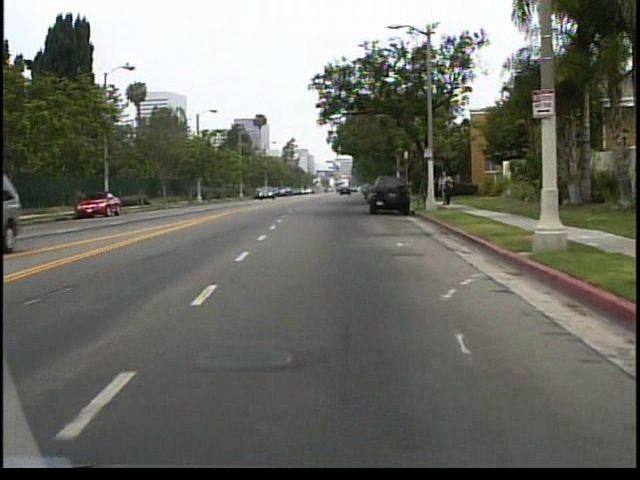person: (440, 169, 455, 209), (443, 173, 456, 206)
